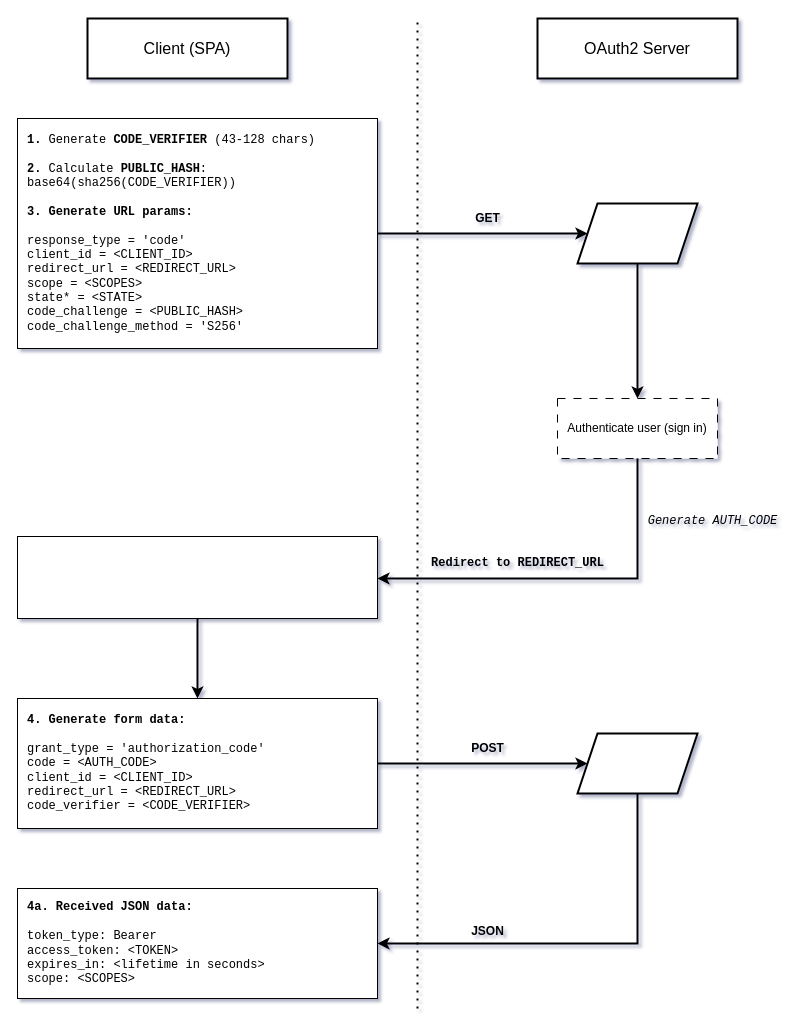
Image size: 811x1033. Some labels were removed from this diagram. Each missing label, with the box of its shape:
/authorize: (576, 202, 698, 264)
/token: (576, 732, 698, 794)
3a. Received URL params: code = <AUTH_CODE> state = <STATE>: (16, 536, 378, 618)
